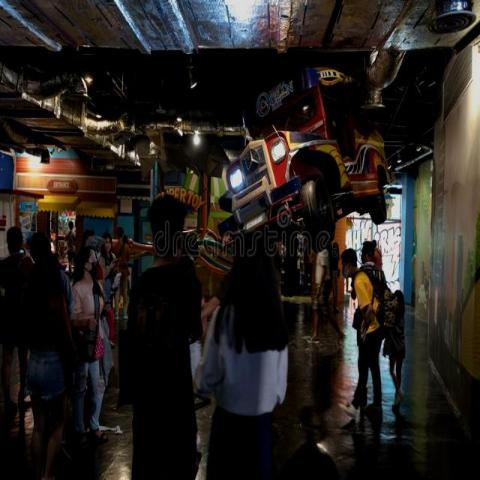jeepney: (220, 80, 395, 243)
